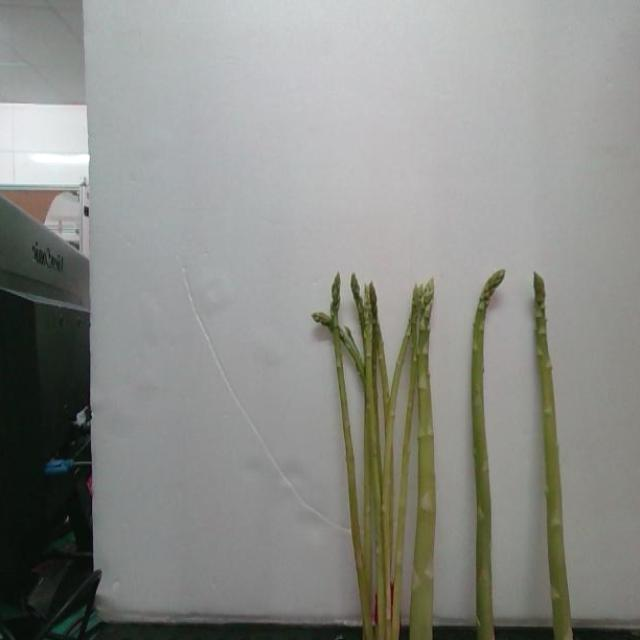aspargus: (530, 273, 573, 640), (468, 269, 506, 640)
